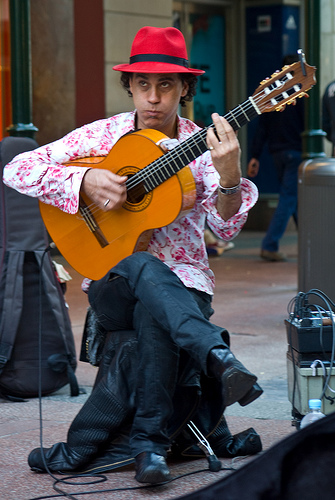guitar: (38, 57, 319, 282)
